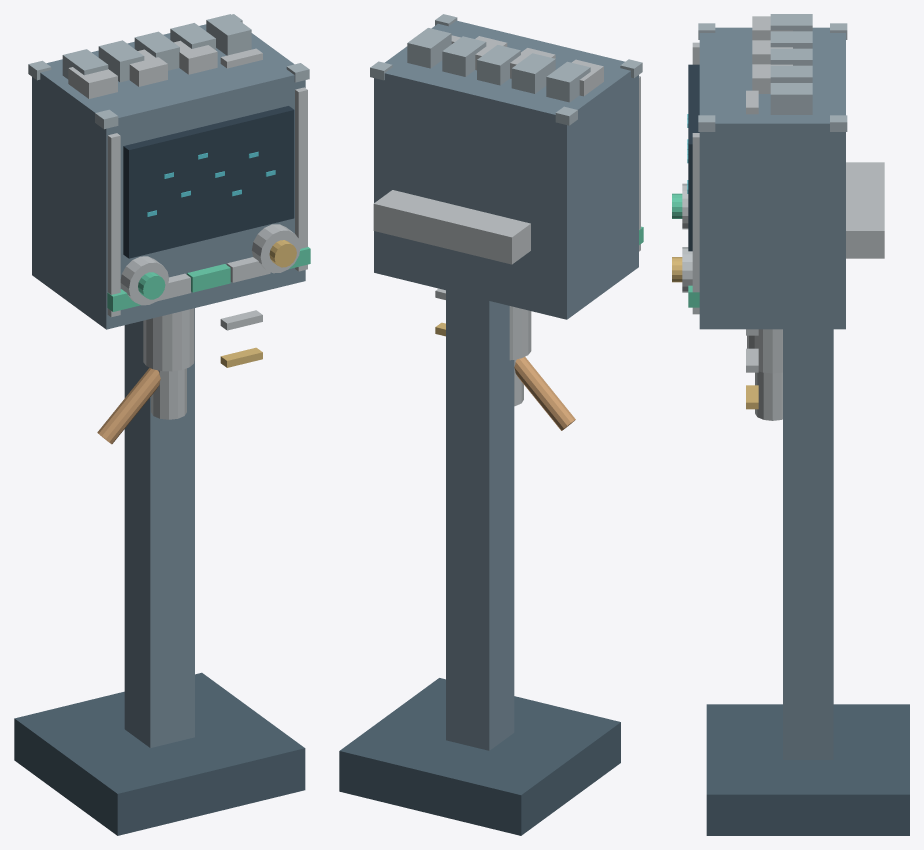
The model's file is 26_L73_PadWearMeasurementSensor.glb.
The picture shows the model from 3 angles, left to right: view 1: azimuth 30°, elevation 25°; view 2: azimuth 150°, elevation 25°; view 3: azimuth 270°, elevation 25°; orthographic projection. The views are drawn at different scales.
Visible parts, largest first — view 1: PadWearMeasurementSensor_Node_0003, PadWearMeasurementSensor_Node_0001, PadWearMeasurementSensor_Node_0000, PadWearMeasurementSensor_Node_0010, PadWearMeasurementSensor_Node_0037, PadWearMeasurementSensor_Node_0008, PadWearMeasurementSensor_Node_0009, PadWearMeasurementSensor_Node_0038, PadWearMeasurementSensor_Node_0039, PadWearMeasurementSensor_Node_0031, PadWearMeasurementSensor_Node_0022, PadWearMeasurementSensor_Node_0020 (+13 smaller); view 2: PadWearMeasurementSensor_Node_0003, PadWearMeasurementSensor_Node_0000, PadWearMeasurementSensor_Node_0001, PadWearMeasurementSensor_Node_0002, PadWearMeasurementSensor_Node_0038, PadWearMeasurementSensor_Node_0028, PadWearMeasurementSensor_Node_0031, PadWearMeasurementSensor_Node_0030, PadWearMeasurementSensor_Node_0027, PadWearMeasurementSensor_Node_0029, PadWearMeasurementSensor_Node_0037, PadWearMeasurementSensor_Node_0024; view 3: PadWearMeasurementSensor_Node_0003, PadWearMeasurementSensor_Node_0001, PadWearMeasurementSensor_Node_0000, PadWearMeasurementSensor_Node_0002, PadWearMeasurementSensor_Node_0010, PadWearMeasurementSensor_Node_0031, PadWearMeasurementSensor_Node_0009, PadWearMeasurementSensor_Node_0039, PadWearMeasurementSensor_Node_0037, PadWearMeasurementSensor_Node_0030, PadWearMeasurementSensor_Node_0027, PadWearMeasurementSensor_Node_0028 (+5 smaller).
Part boxes in pixels (bbox=[...]): PadWearMeasurementSensor_Node_0003: bbox=[32, 24, 305, 329]; PadWearMeasurementSensor_Node_0001: bbox=[14, 672, 305, 835]; PadWearMeasurementSensor_Node_0000: bbox=[124, 308, 194, 747]; PadWearMeasurementSensor_Node_0010: bbox=[123, 106, 294, 258]; PadWearMeasurementSensor_Node_0037: bbox=[143, 308, 194, 371]; PadWearMeasurementSensor_Node_0008: bbox=[107, 133, 120, 317]; PadWearMeasurementSensor_Node_0009: bbox=[295, 87, 307, 271]; PadWearMeasurementSensor_Node_0038: bbox=[97, 368, 160, 444]; PadWearMeasurementSensor_Node_0039: bbox=[151, 368, 186, 419]; PadWearMeasurementSensor_Node_0031: bbox=[206, 14, 251, 55]; PadWearMeasurementSensor_Node_0022: bbox=[251, 224, 300, 273]; PadWearMeasurementSensor_Node_0020: bbox=[120, 256, 168, 305]; PadWearMeasurementSensor_Node_0003: bbox=[374, 20, 638, 319]; PadWearMeasurementSensor_Node_0000: bbox=[446, 290, 514, 750]; PadWearMeasurementSensor_Node_0001: bbox=[339, 678, 620, 835]; PadWearMeasurementSensor_Node_0002: bbox=[373, 190, 530, 264]; PadWearMeasurementSensor_Node_0038: bbox=[514, 357, 575, 430]; PadWearMeasurementSensor_Node_0028: bbox=[511, 53, 555, 93]; PadWearMeasurementSensor_Node_0031: bbox=[407, 28, 451, 68]; PadWearMeasurementSensor_Node_0030: bbox=[442, 36, 486, 76]; PadWearMeasurementSensor_Node_0027: bbox=[546, 61, 590, 102]; PadWearMeasurementSensor_Node_0029: bbox=[477, 45, 520, 85]; PadWearMeasurementSensor_Node_0037: bbox=[509, 306, 531, 360]; PadWearMeasurementSensor_Node_0024: bbox=[572, 59, 603, 96]; PadWearMeasurementSensor_Node_0003: bbox=[699, 27, 845, 329]; PadWearMeasurementSensor_Node_0001: bbox=[706, 704, 909, 835]; PadWearMeasurementSensor_Node_0000: bbox=[783, 329, 833, 759]; PadWearMeasurementSensor_Node_0002: bbox=[846, 162, 884, 258]; PadWearMeasurementSensor_Node_0010: bbox=[688, 64, 699, 251]; PadWearMeasurementSensor_Node_0031: bbox=[770, 83, 812, 114]; PadWearMeasurementSensor_Node_0009: bbox=[692, 133, 699, 314]; PadWearMeasurementSensor_Node_0039: bbox=[755, 371, 782, 420]; PadWearMeasurementSensor_Node_0037: bbox=[747, 329, 782, 373]; PadWearMeasurementSensor_Node_0030: bbox=[770, 65, 812, 82]; PadWearMeasurementSensor_Node_0027: bbox=[770, 14, 812, 31]; PadWearMeasurementSensor_Node_0028: bbox=[770, 31, 812, 48].
Bounding box in the file's own units: 0.4605 × 1.59 × 0.468.
